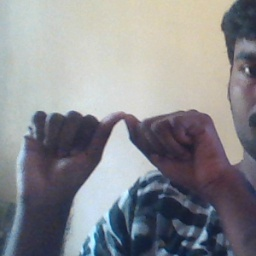A: (18, 100, 229, 201)
